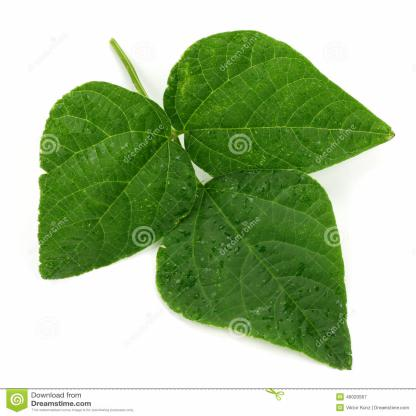Soybean leaf: (151, 168, 355, 372), (164, 26, 397, 180), (36, 79, 197, 280)
